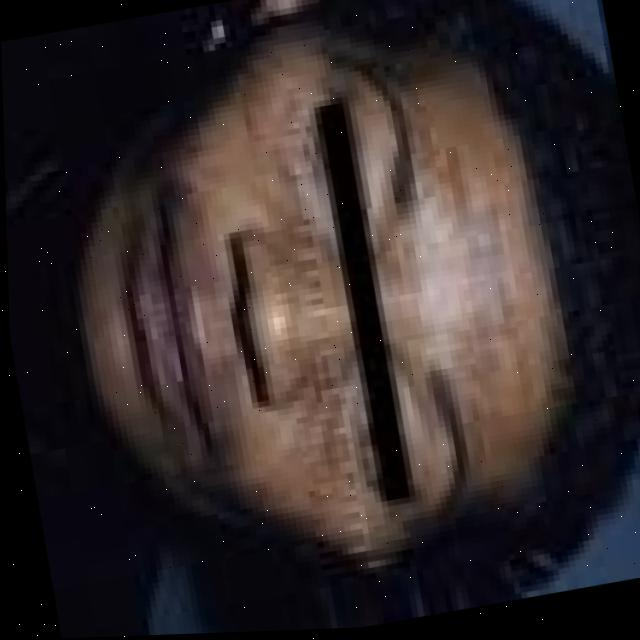Melasma: (258, 394, 372, 546)
